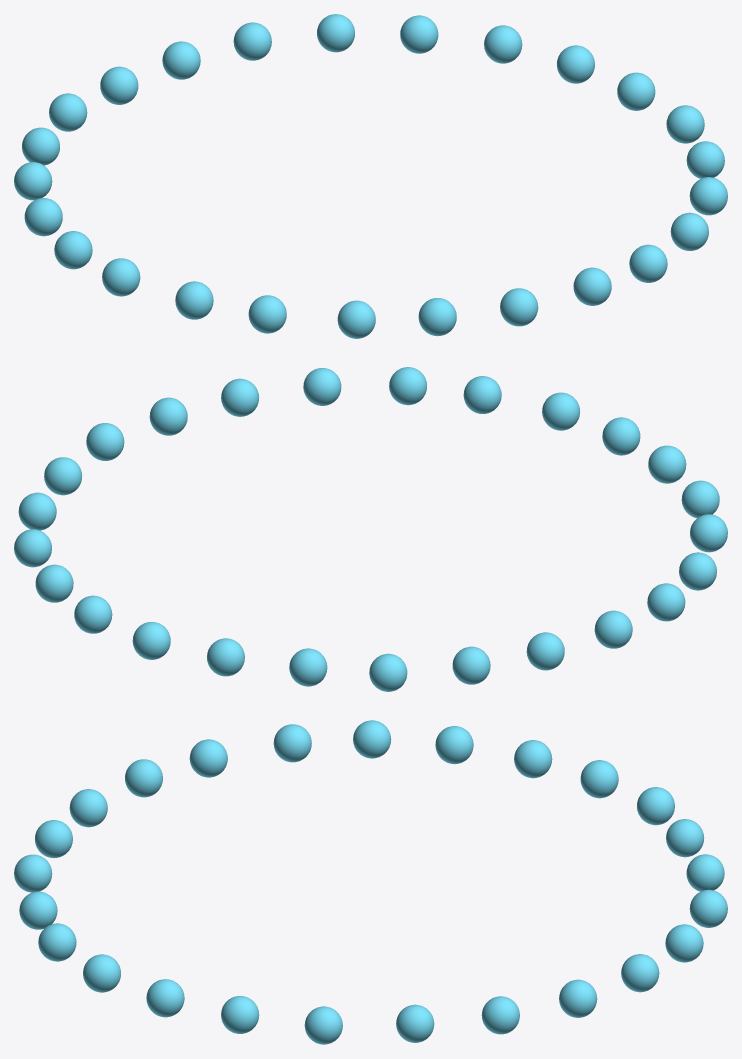
3 views of the same model, one above another, from view 1: azimuth 30°, elevation 25°; view 2: azimuth 150°, elevation 25°; view 3: azimuth 270°, elevation 25° (orthographic).
Visible parts, largest first — view 1: Sphere049; view 2: Sphere049; view 3: Sphere049.
Part boxes in pixels (left/top/right/bottom): Sphere049: left=14, top=14, right=727, bottom=338; Sphere049: left=14, top=367, right=727, bottom=691; Sphere049: left=14, top=720, right=727, bottom=1044.
Size of the model in its own units: 154 by 8.22 by 153.
